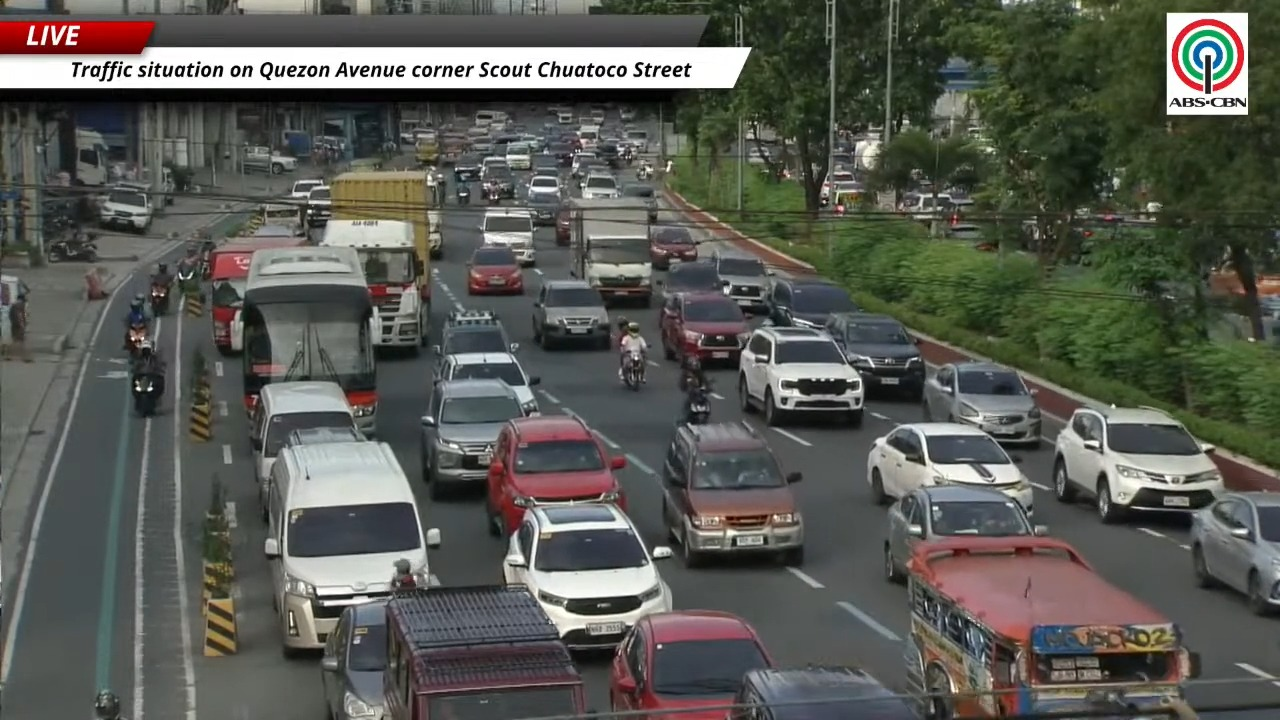bus: (241, 246, 376, 436), (209, 237, 304, 355)
car: (502, 505, 671, 649), (661, 423, 803, 567), (1053, 408, 1224, 522), (609, 611, 773, 719), (486, 415, 625, 536), (884, 486, 1047, 582), (866, 422, 1033, 514), (737, 326, 864, 426), (420, 378, 525, 497), (1189, 492, 1279, 614), (728, 666, 921, 719), (922, 362, 1042, 445), (825, 312, 924, 401), (321, 600, 387, 719), (437, 352, 540, 414), (659, 292, 749, 362), (532, 279, 610, 349), (432, 310, 518, 372), (765, 277, 859, 327), (710, 250, 770, 312), (480, 207, 535, 266), (467, 245, 523, 294), (657, 261, 722, 301), (98, 187, 153, 233), (650, 226, 697, 269), (285, 425, 366, 446), (619, 183, 658, 223), (481, 161, 514, 198), (527, 193, 563, 226), (304, 184, 331, 228), (820, 168, 855, 201), (820, 180, 864, 206), (572, 153, 610, 183), (581, 172, 618, 199), (527, 174, 561, 199), (288, 179, 324, 201), (454, 153, 481, 182), (505, 142, 532, 169), (597, 139, 622, 168), (554, 204, 571, 245), (571, 151, 596, 178), (548, 142, 574, 167), (531, 152, 558, 176), (625, 128, 648, 153), (472, 135, 492, 155), (619, 106, 636, 122)
motorcycle: (47, 233, 98, 263), (132, 374, 159, 417), (623, 349, 645, 390), (686, 387, 710, 424), (126, 323, 149, 357), (176, 262, 198, 295), (199, 240, 216, 279), (150, 283, 169, 316), (485, 184, 500, 205), (455, 184, 470, 204), (636, 165, 652, 181), (620, 147, 634, 165)
truck: (382, 585, 587, 719), (328, 170, 442, 316), (320, 219, 429, 352), (571, 197, 652, 306), (74, 127, 109, 186), (439, 131, 468, 165), (415, 132, 439, 165)
